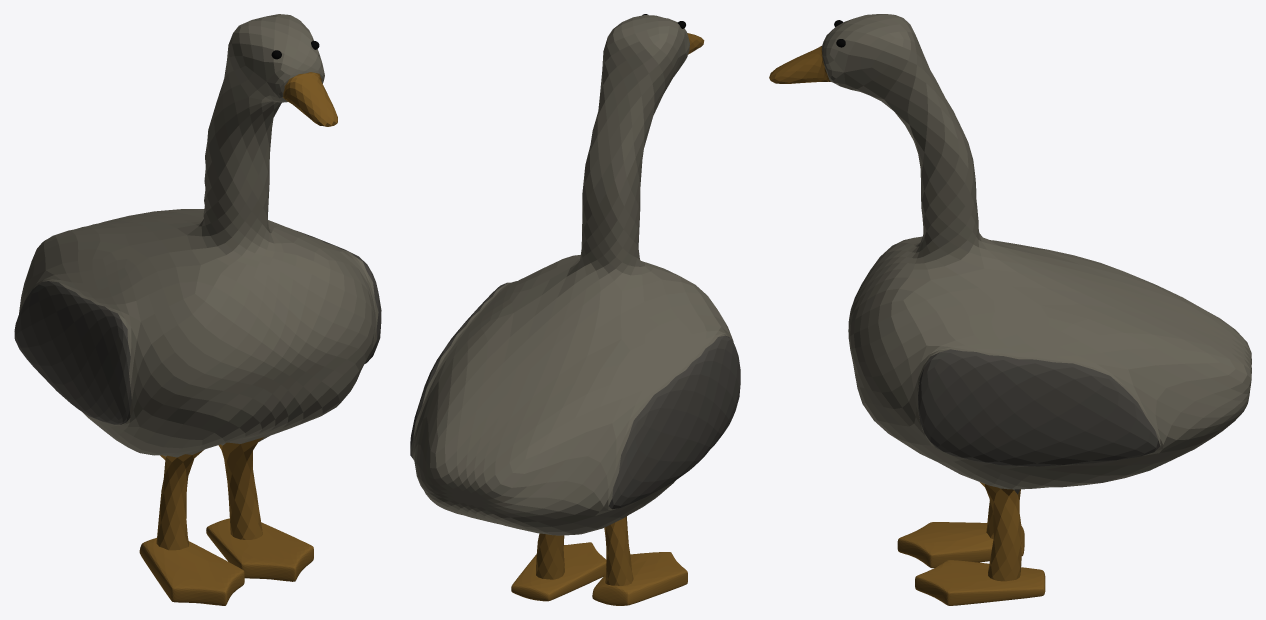
File: goose4.gltf
3 views of the same model, side by side, from view 1: azimuth 30°, elevation 25°; view 2: azimuth 150°, elevation 25°; view 3: azimuth 270°, elevation 25° (orthographic). The views are drawn at different scales.
Parts seen in each view (by area): view 1: Cube; view 2: Cube; view 3: Cube.
Part boxes in pixels (x1,y1,x2,y2): Cube: (14,14,381,605); Cube: (410,14,740,605); Cube: (769,14,1251,605).
Bounding box in the file's own units: 8.33 × 17.53 × 13.91.
